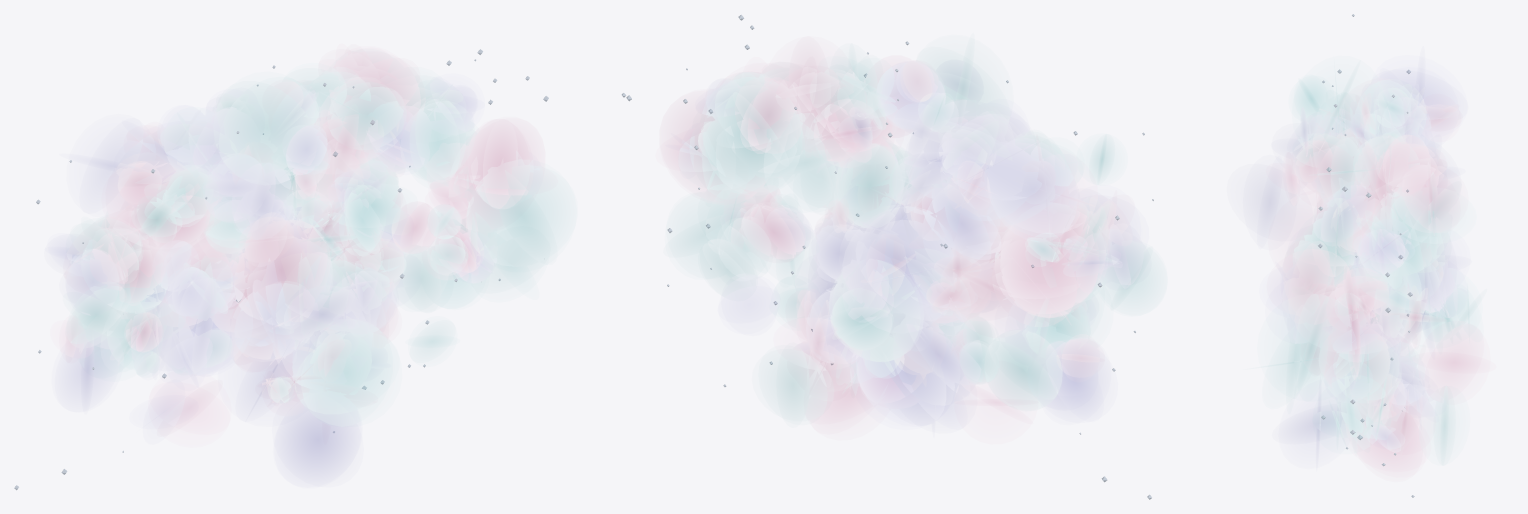
The picture shows the model from 3 angles, left to right: view 1: azimuth 30°, elevation 25°; view 2: azimuth 150°, elevation 25°; view 3: azimuth 270°, elevation 25°; orthographic projection. The views are drawn at different scales.
Bounding box in the file's own units: 6 × 4.77 × 3.19.
